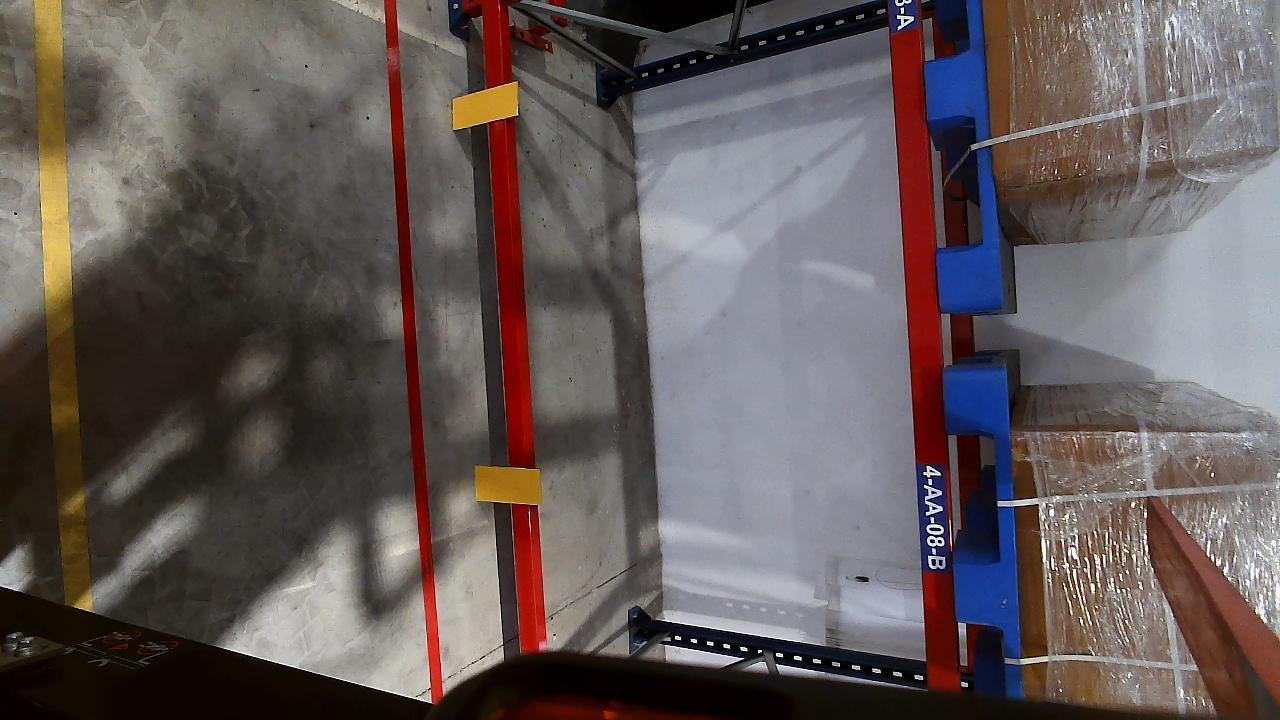red_line: (377, 0, 445, 699)
yellow_line: (31, 0, 96, 611)
